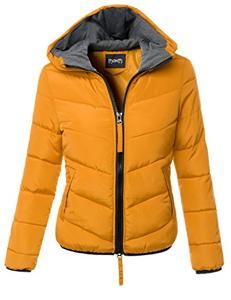C_jacket: (1, 2, 230, 290)
